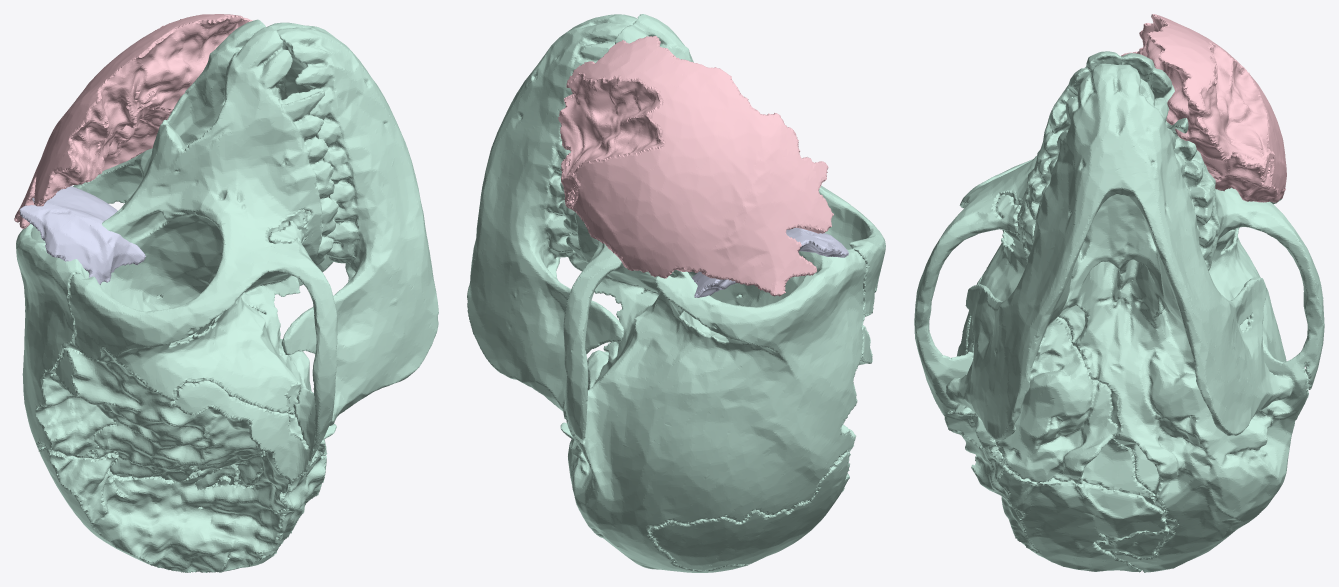
Rendered from 102021_colored.glb.
The picture shows the model from 3 angles, left to right: view 1: azimuth 30°, elevation 25°; view 2: azimuth 150°, elevation 25°; view 3: azimuth 270°, elevation 25°; orthographic projection. The views are drawn at different scales.
Visible parts, largest first — view 1: world; view 2: world; view 3: world.
Part boxes in pixels (box(x1,y1,x2,y2)): world: box(14, 14, 438, 572); world: box(467, 14, 885, 572); world: box(914, 14, 1324, 572).
Size of the model in its own units: 1.49 by 2.15 by 1.46.
